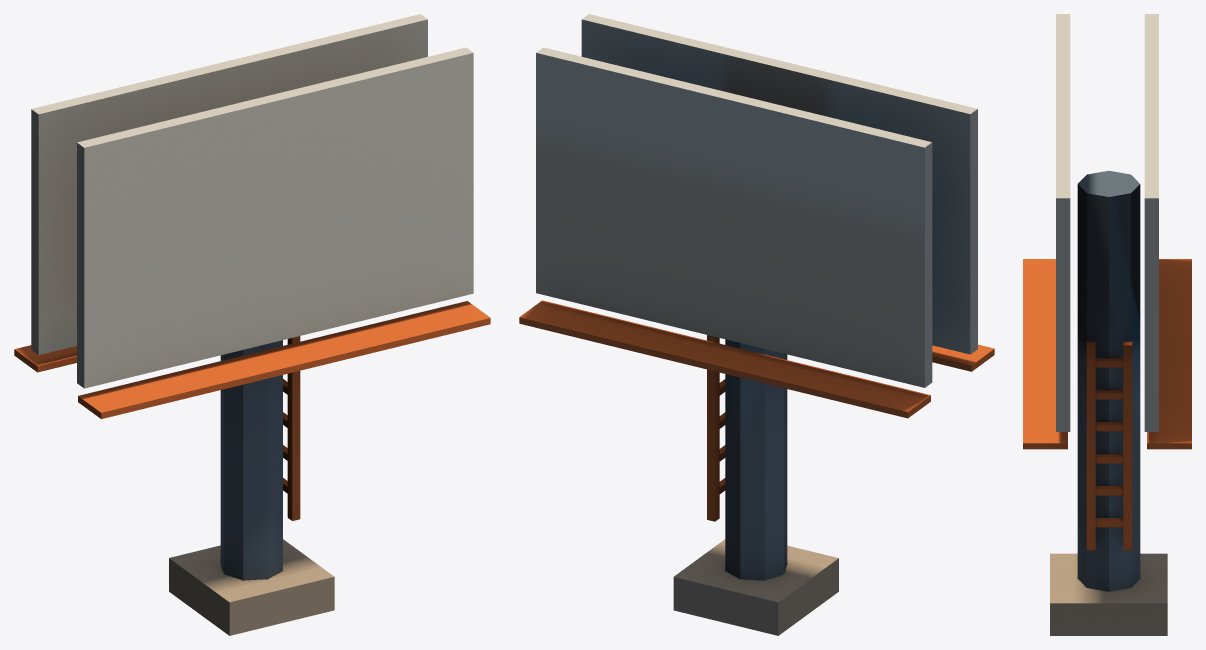
File: f6a69525-2be1-47c2-ab2e-6dad36bc4580.glb
The picture shows the model from 3 angles, left to right: view 1: azimuth 30°, elevation 25°; view 2: azimuth 150°, elevation 25°; view 3: azimuth 270°, elevation 25°; orthographic projection. The views are drawn at different scales.
Parts seen in each view (by area): view 1: billboard; view 2: billboard; view 3: billboard.
Part boxes in pixels (x1,y1,x2,y2): billboard: (14, 14, 490, 635); billboard: (519, 14, 994, 635); billboard: (1023, 14, 1191, 635).
Bounding box in the file's own units: 1.53 × 1.95 × 0.591.
Materials: 1 (1 with a texture image).
